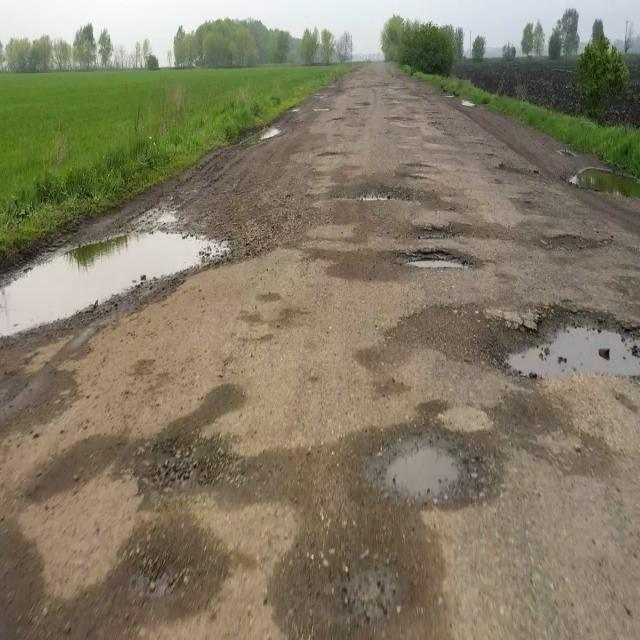Pothole: (1, 174, 226, 380), (244, 498, 452, 640), (364, 428, 500, 551), (475, 297, 638, 396), (78, 548, 243, 620), (118, 443, 242, 507), (394, 238, 488, 292), (332, 165, 428, 217), (243, 111, 306, 152)
